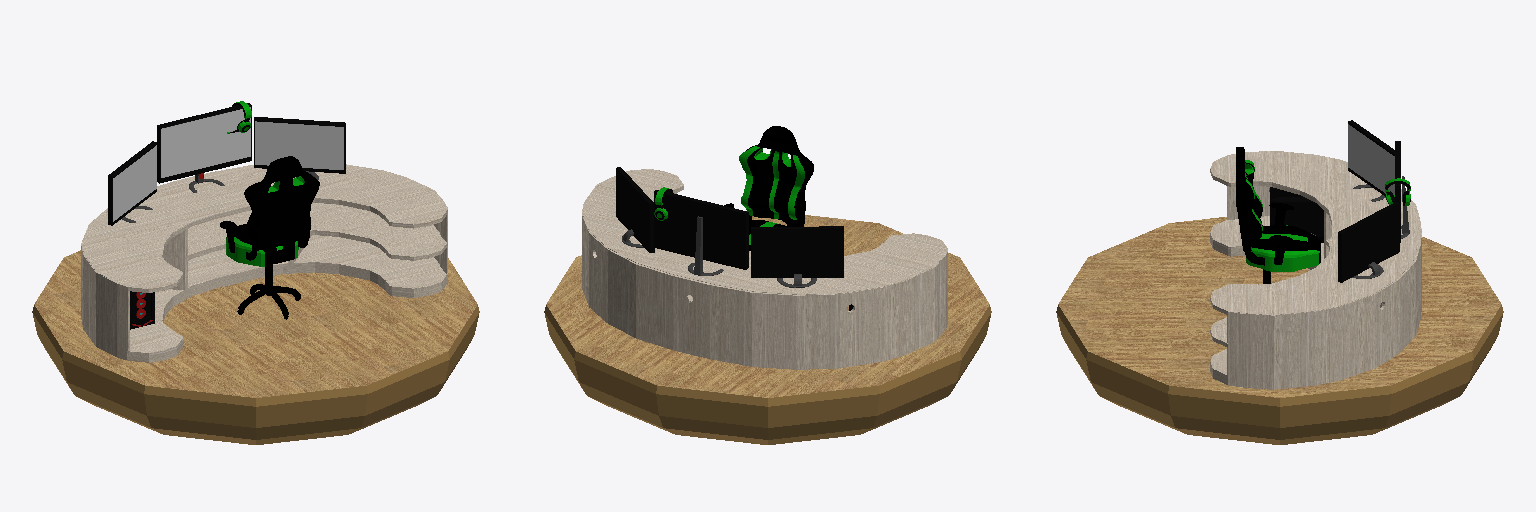
3 renders of one model, left to right at view 1: azimuth 30°, elevation 25°; view 2: azimuth 150°, elevation 25°; view 3: azimuth 270°, elevation 25°, orthographic.
Visible parts, largest first — view 1: desk; view 2: desk; view 3: desk.
Boxes of the visible parts, box(x1,y1,x2,y2) form: desk: box(32, 101, 479, 444); desk: box(544, 126, 991, 444); desk: box(1056, 120, 1503, 444).
Size of the model in its own units: 31.24 by 17.15 by 31.24.
15 materials, 2 textured.